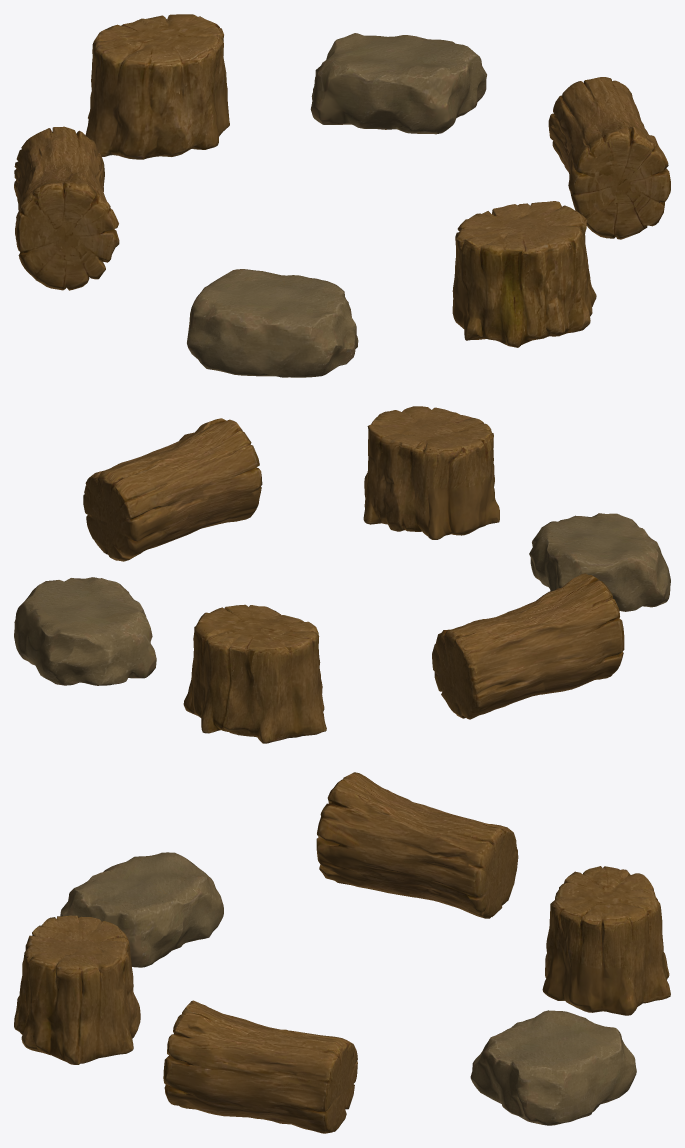
Rendered from Story Circle.fbx.
3 views of the same model, one above another, from view 1: azimuth 30°, elevation 25°; view 2: azimuth 150°, elevation 25°; view 3: azimuth 270°, elevation 25° (orthographic). The views are drawn at different scales.
Parts seen in each view (by area): view 1: tripo_node_79fd8d2f; view 2: tripo_node_79fd8d2f; view 3: tripo_node_79fd8d2f.
Boxes of the visible parts, box(x1,y1,x2,y2) form: tripo_node_79fd8d2f: box(14, 14, 670, 377); tripo_node_79fd8d2f: box(14, 406, 670, 743); tripo_node_79fd8d2f: box(14, 772, 670, 1133).
Bounding box in the file's own units: 1 × 0.1844 × 0.9872.
